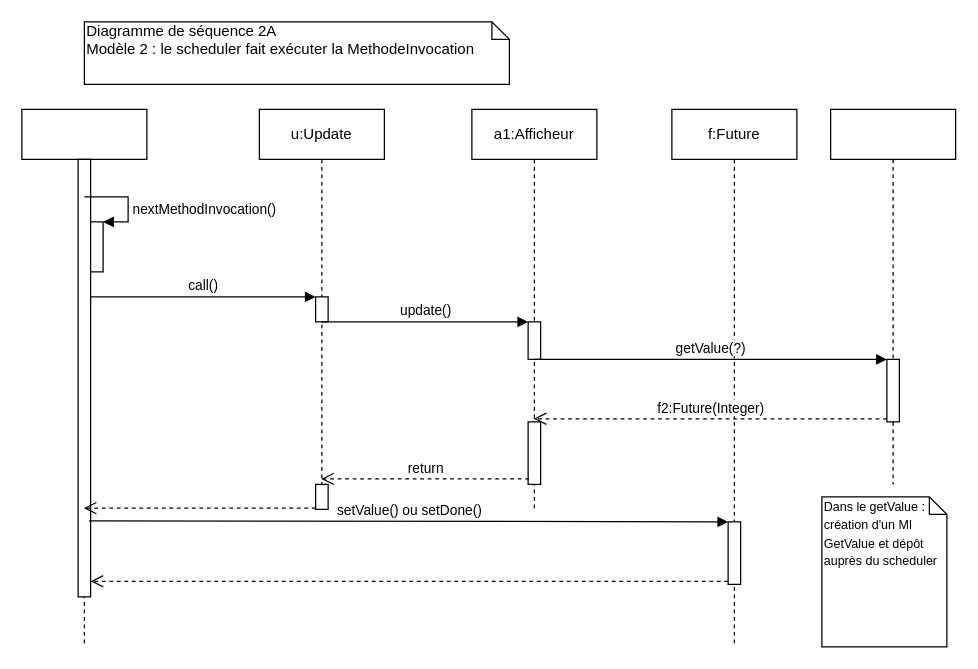
Some shapes in this 978 by 669 pixel diagram are drawn without their labels. The box of each missing label's shape, as (x1, y1, x2, y2) in pixels:
:Scheduler: (21, 108, 147, 647)
c1:Canal: (829, 108, 956, 484)
